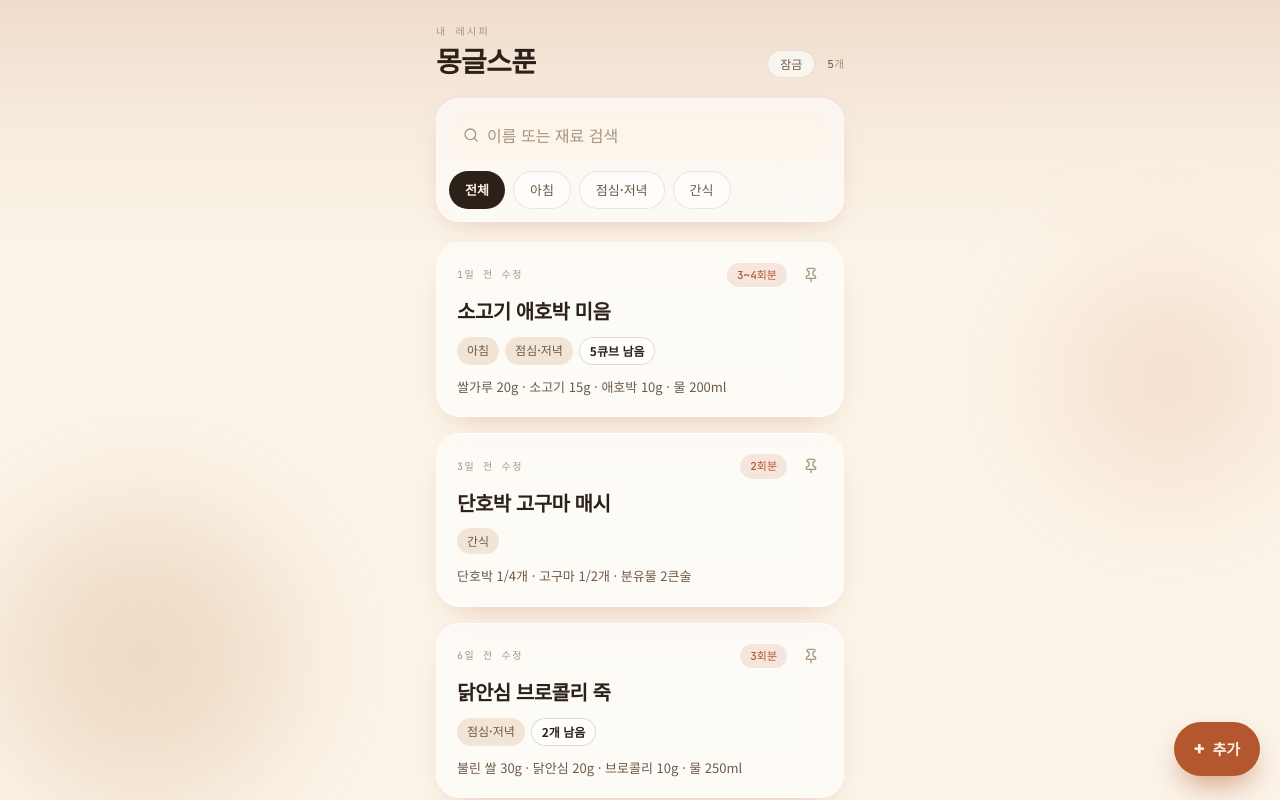
Test case: RecipeListScreen › filters by meal time
Check: the heading "소고기 애호박 미음" is shown, box left=457, top=296, right=610, bottom=325
Click the button "간식": click(702, 190) left=673, top=171, right=730, bottom=208
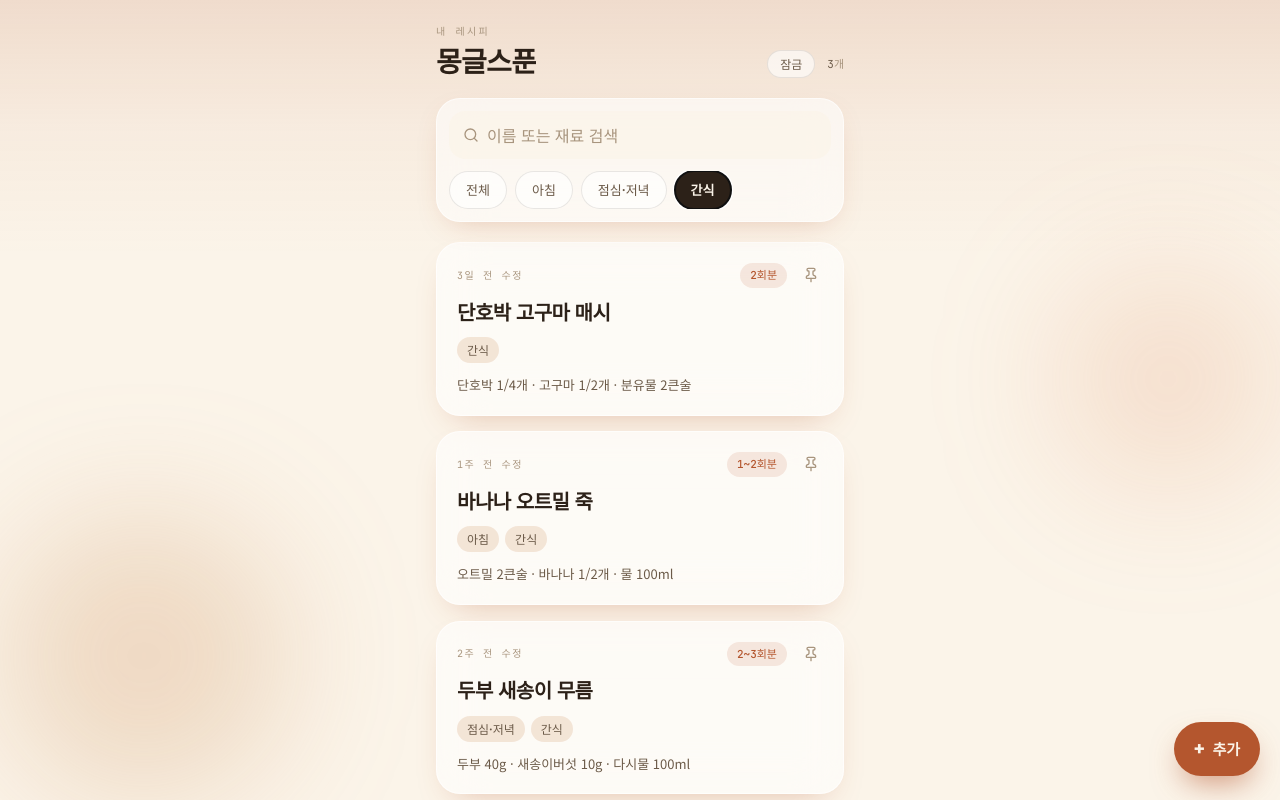
Check: the heading "단호박 고구마 매시" is shown, box left=457, top=296, right=610, bottom=325
Check: the button "닭안심 브로콜리 죽" is gone
